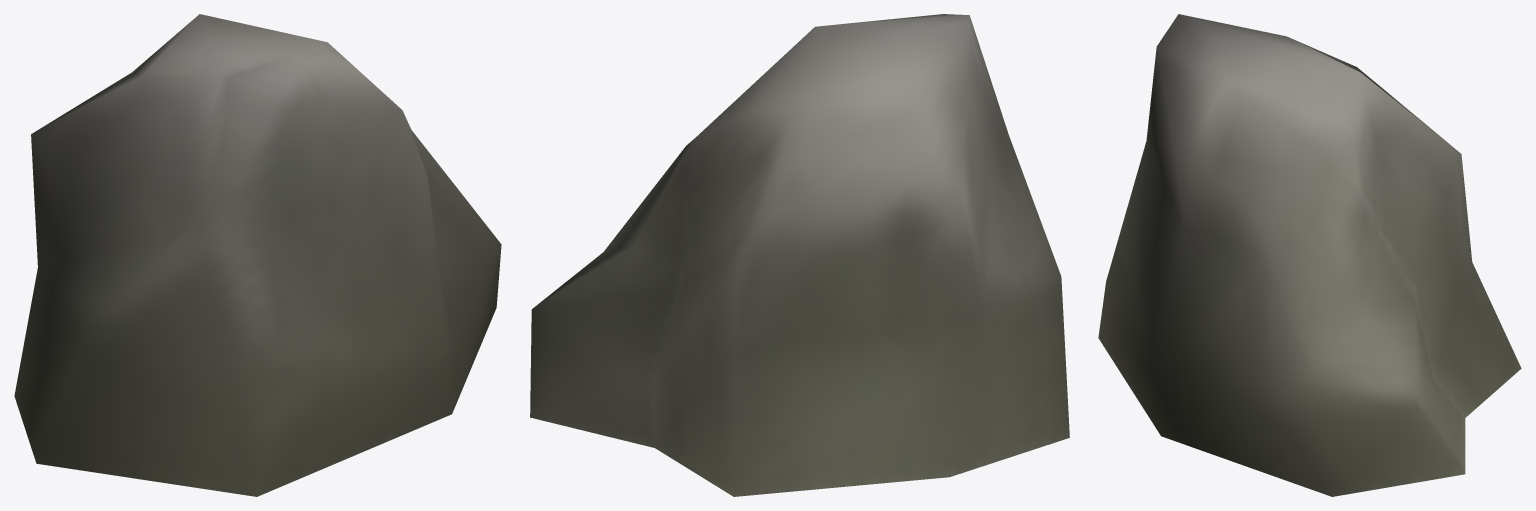
Rendered from Stones_Medium_06.FBX.
3 views of the same model, side by side, from view 1: azimuth 30°, elevation 25°; view 2: azimuth 150°, elevation 25°; view 3: azimuth 270°, elevation 25° (orthographic). The views are drawn at different scales.
Parts seen in each view (by area): view 1: Stones_Medium_06; view 2: Stones_Medium_06; view 3: Stones_Medium_06.
Part boxes in pixels (x1,y1,x2,y2): Stones_Medium_06: (14, 14, 501, 496); Stones_Medium_06: (530, 14, 1069, 496); Stones_Medium_06: (1098, 14, 1521, 496).
Size of the model in its own units: 376 by 271 by 313.
